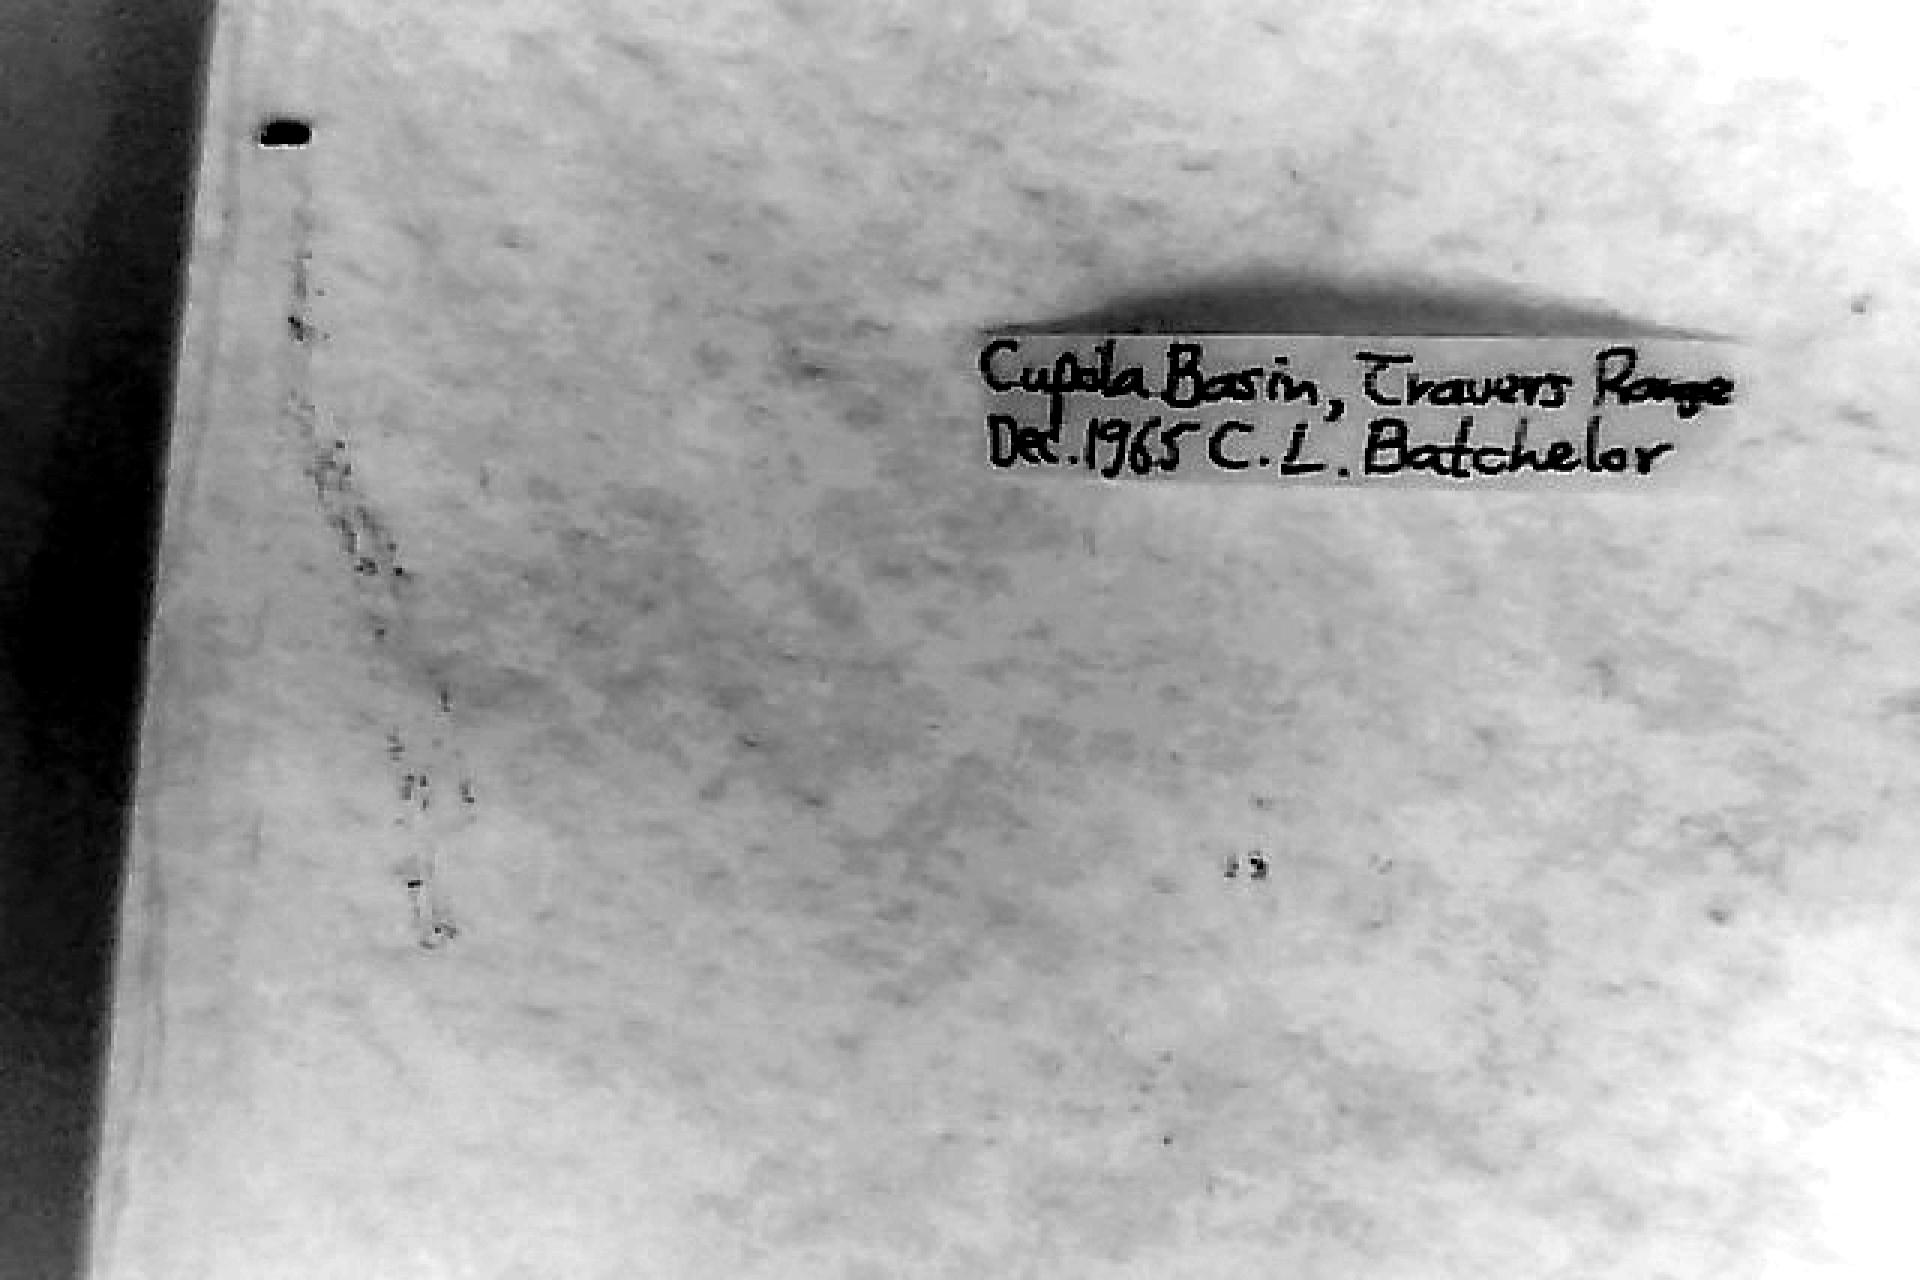hand_label: (979, 333, 1740, 486)
